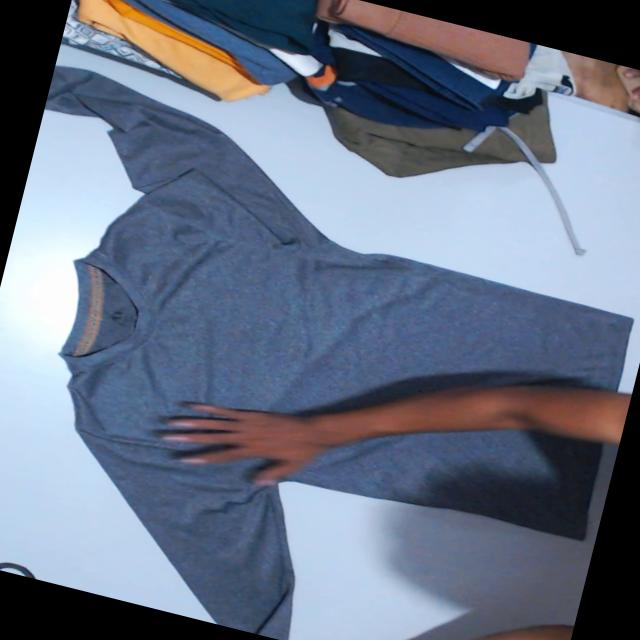new-garment: (46, 67, 630, 640), (289, 432, 599, 539)
